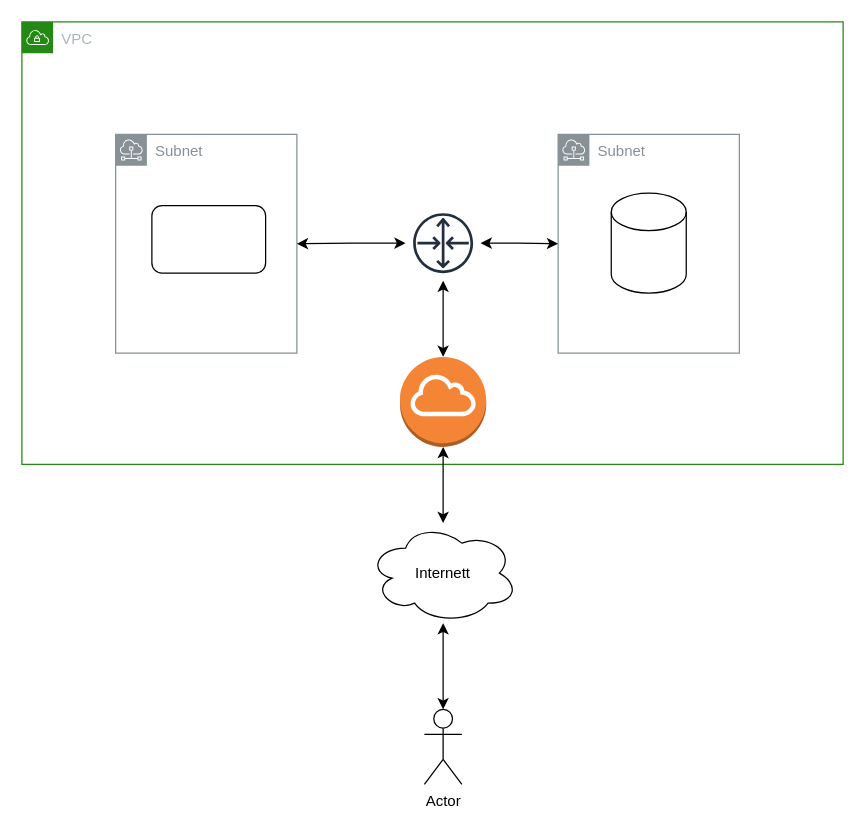
Some shapes in this 865 by 833 pixel diagram are drawn without their labels. Each missing label, with the box of its shape:
DB: (610, 192, 686, 293)
Router: (404, 204, 481, 281)
Webiste: (151, 204, 266, 273)
